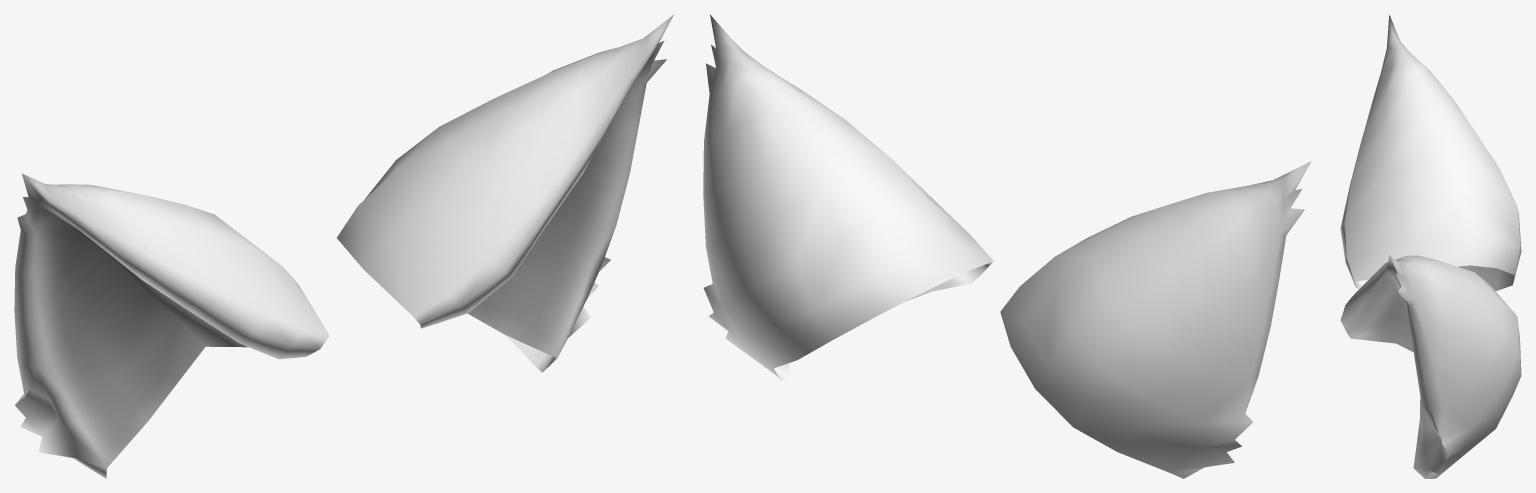
The model's file is hat_cat_ears.glb.
3 renders of one model, left to right at view 1: azimuth 30°, elevation 25°; view 2: azimuth 150°, elevation 25°; view 3: azimuth 270°, elevation 25°, orthographic. The views are drawn at different scales.
Visible parts, largest first — view 1: Cat Ears; view 2: Cat Ears; view 3: Cat Ears.
Part boxes in pixels (x1,y1,x2,y2): Cat Ears: [14, 14, 674, 478]; Cat Ears: [703, 14, 1311, 478]; Cat Ears: [1340, 14, 1521, 478].
Size of the model in its own units: 1.05 by 0.537 by 0.3335.
1 material, 1 textured.
